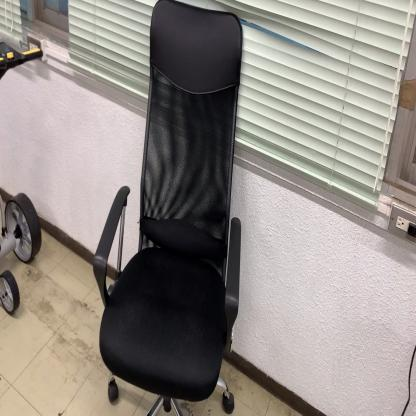chair: (92, 2, 244, 416)
